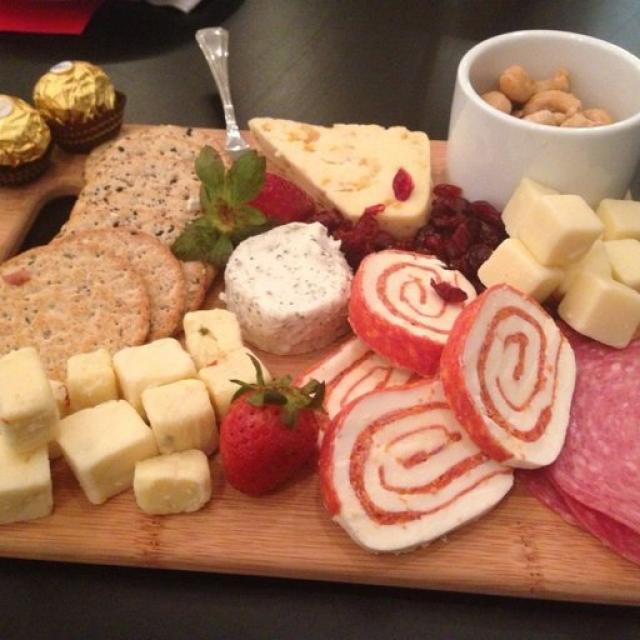bacon: (547, 339, 640, 565)
cake: (321, 376, 515, 555), (440, 290, 575, 470), (348, 248, 472, 380)
cookie: (0, 238, 144, 368), (67, 227, 185, 345), (69, 160, 209, 249)
strawberry: (219, 384, 321, 491)
